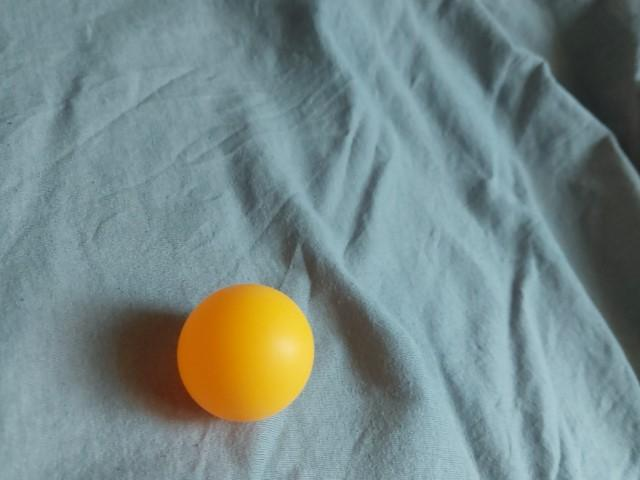oball: (167, 277, 326, 431)
